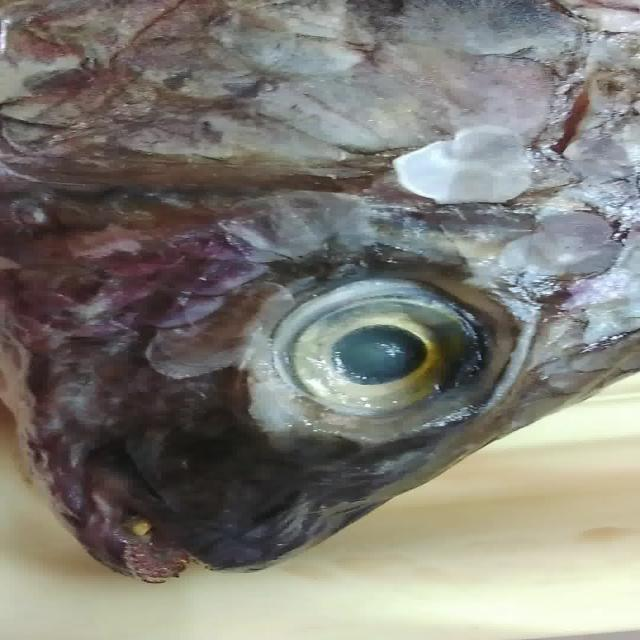Non-Fresh: (226, 267, 532, 451)
